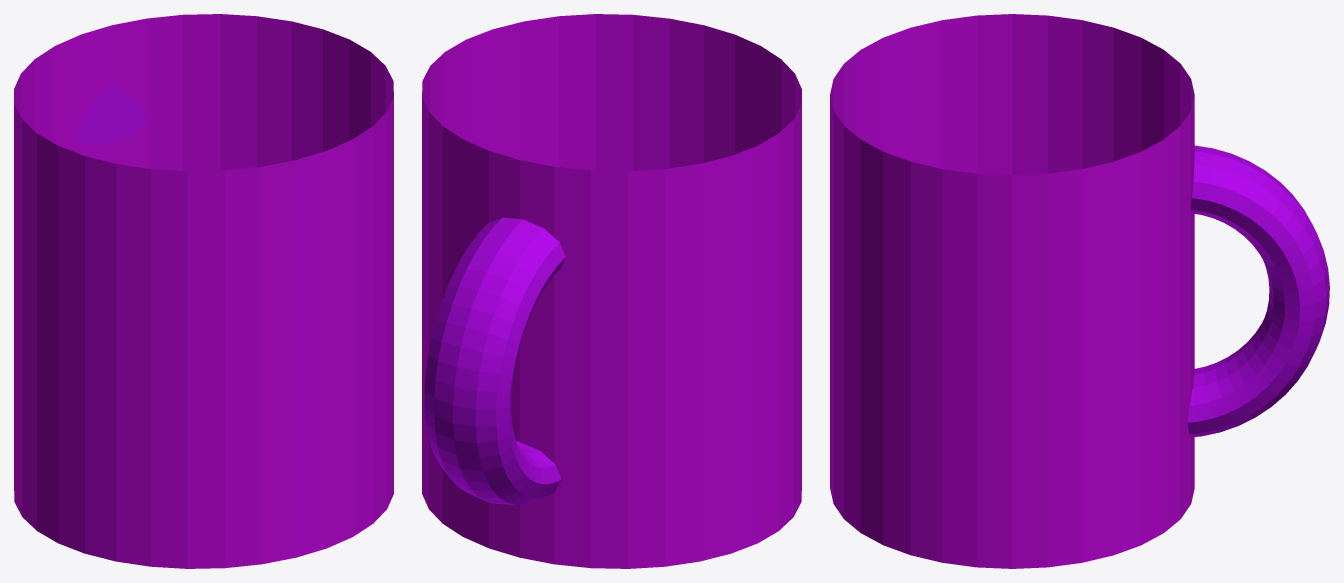
The model's file is PurpleCup.fbx.
3 views of the same model, side by side, from view 1: azimuth 30°, elevation 25°; view 2: azimuth 150°, elevation 25°; view 3: azimuth 270°, elevation 25° (orthographic).
Visible parts, largest first — view 1: Cylinder, Torus; view 2: Cylinder, Torus; view 3: Cylinder, Torus.
Boxes of the visible parts, <box> form: Cylinder: <box>14,14,393,568</box>; Torus: <box>76,84,148,144</box>; Cylinder: <box>422,14,801,568</box>; Torus: <box>424,217,565,504</box>; Cylinder: <box>830,14,1194,568</box>; Torus: <box>1187,145,1329,437</box>.
Size of the model in its own units: 48.22 by 54.87 by 63.16.
